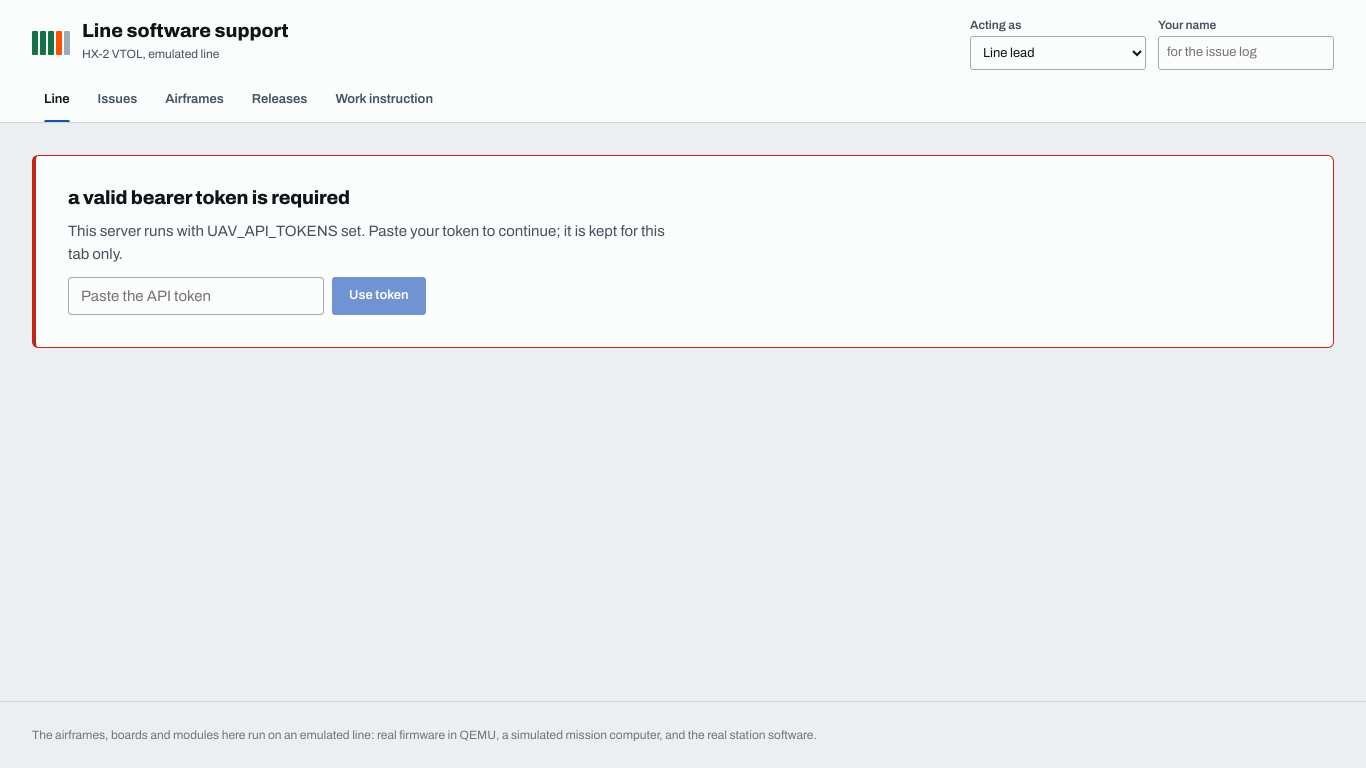
Test: the line › asks for the API token and sends it from then on
Step 1. Type "s3cret" into the password field labelled "API token" → (196, 296), box [68,277,324,315]
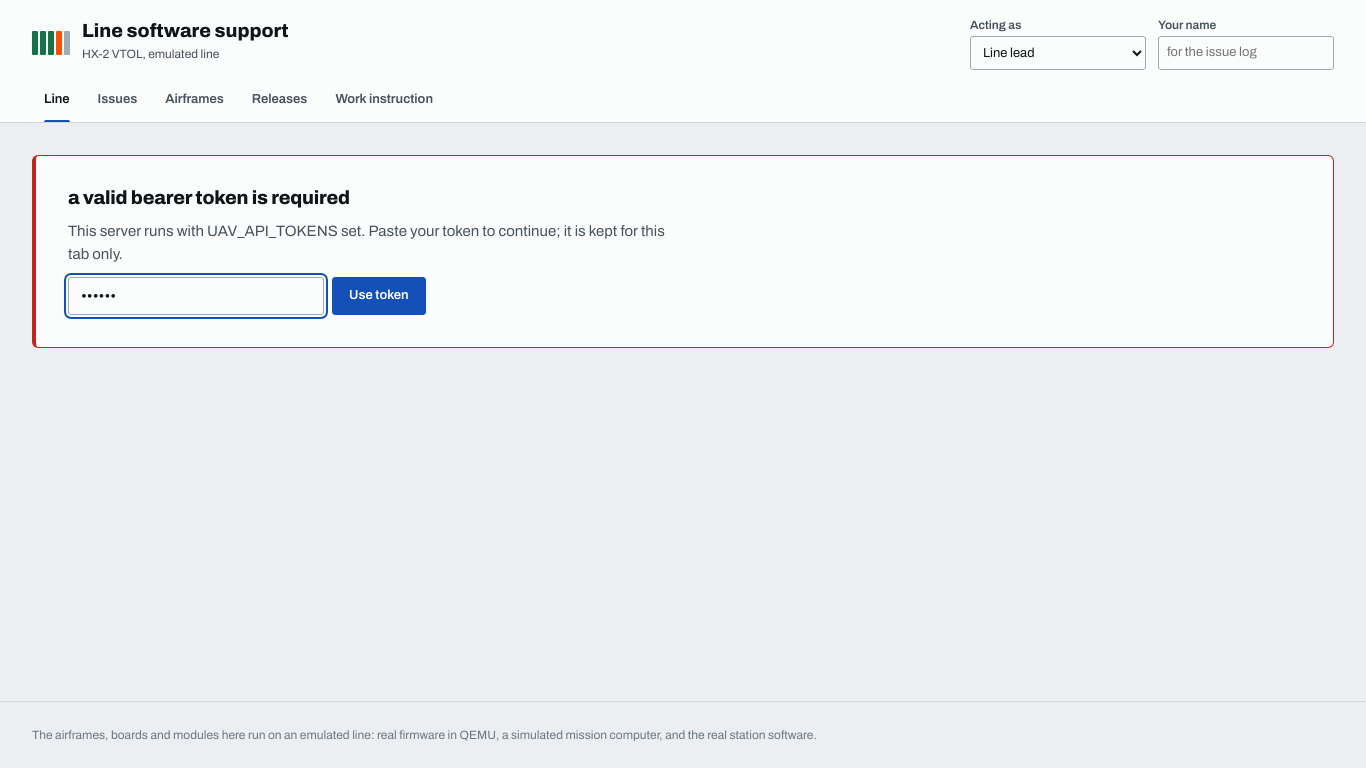
Step 2. Click the button "Use token" → (379, 296), box [332,277,426,315]
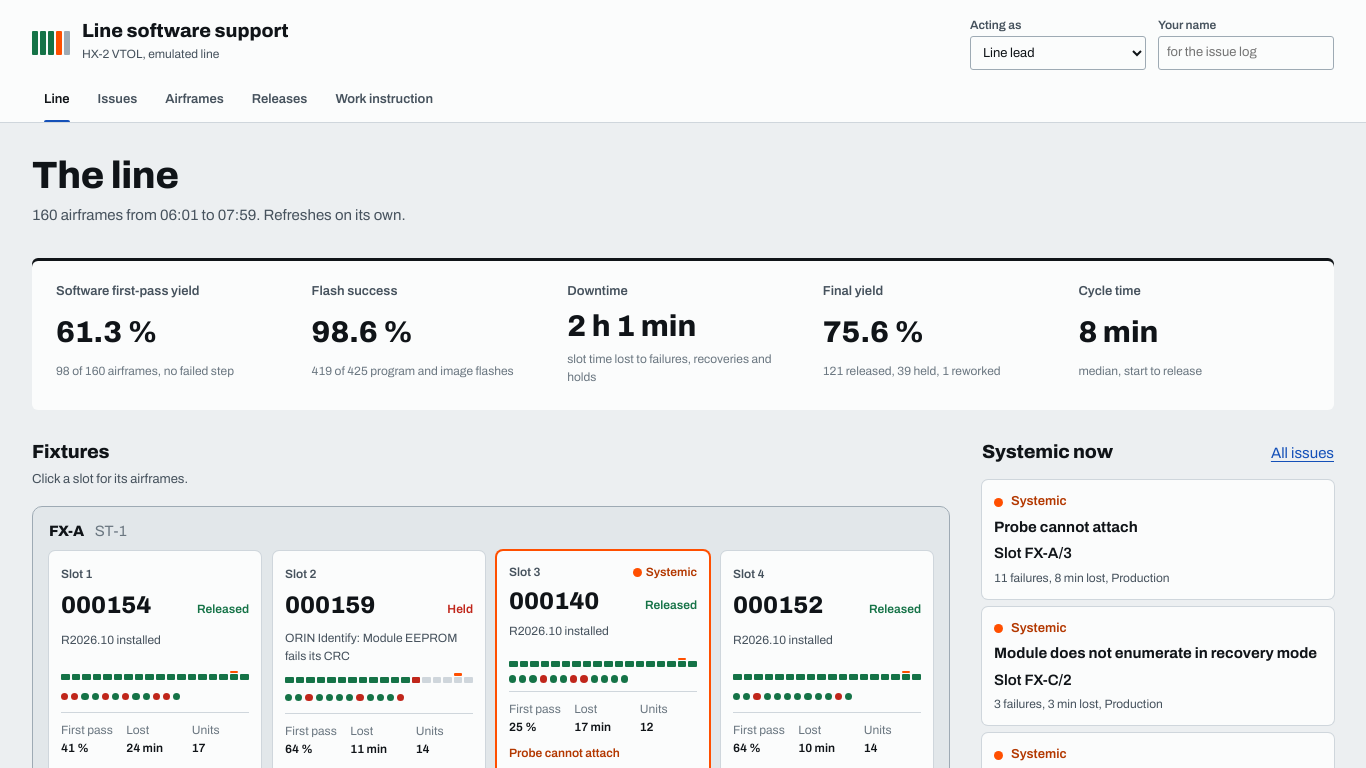
Result: the heading "The line" is shown at [32,154,178,196]
